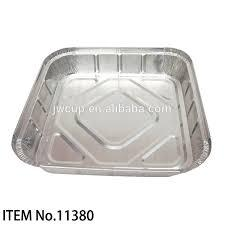metal: (10, 45, 212, 178)
